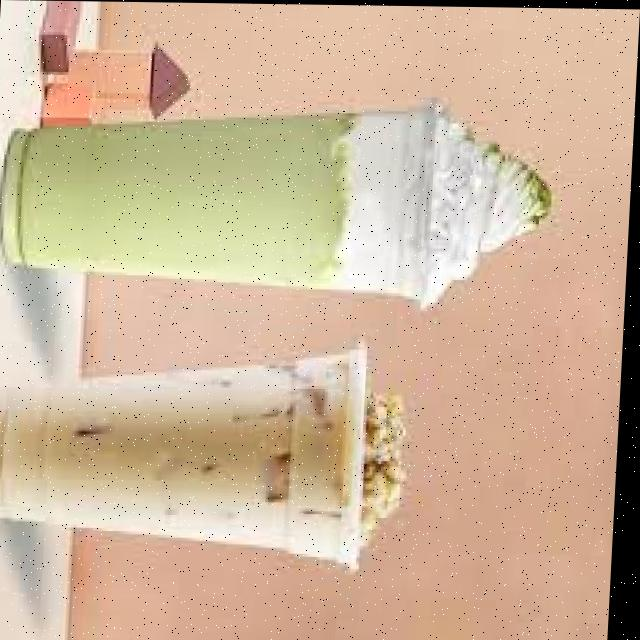cup: (0, 344, 372, 569), (3, 108, 437, 299)
